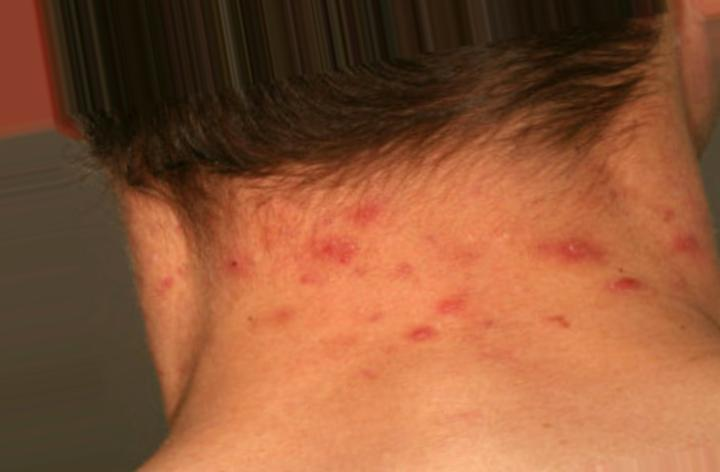Folliculitis: (204, 158, 701, 374)
